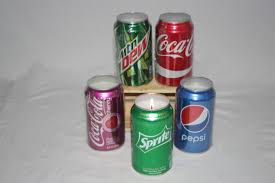can: (126, 91, 172, 175), (83, 72, 126, 157), (183, 66, 219, 157), (112, 12, 149, 90), (154, 12, 185, 84)
